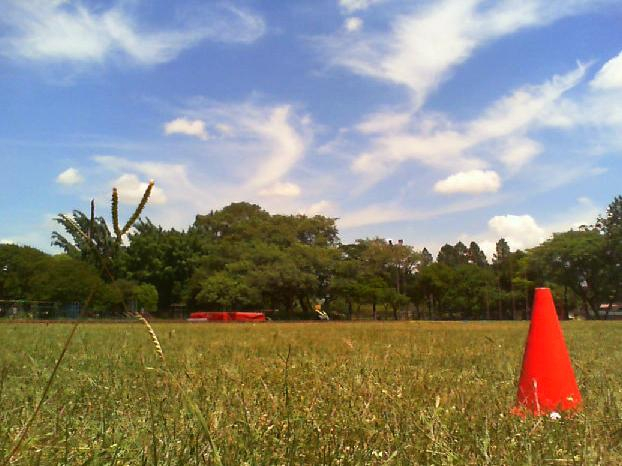0 cone: (516, 288, 582, 411)
